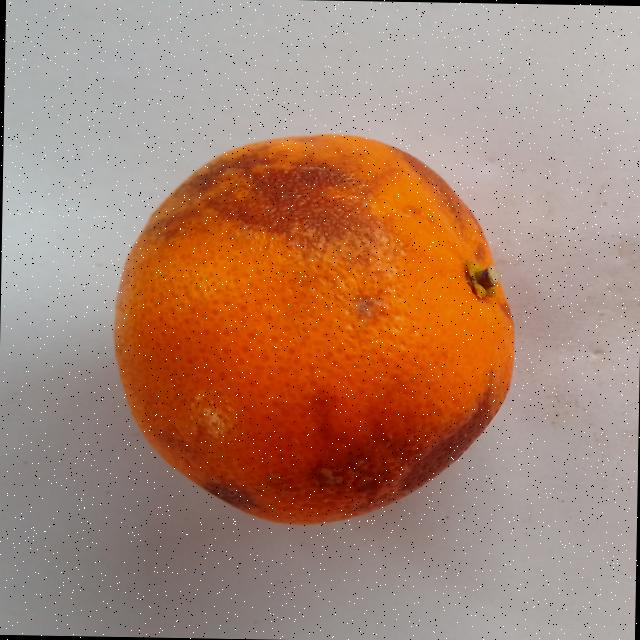overripe: (104, 120, 534, 534)
